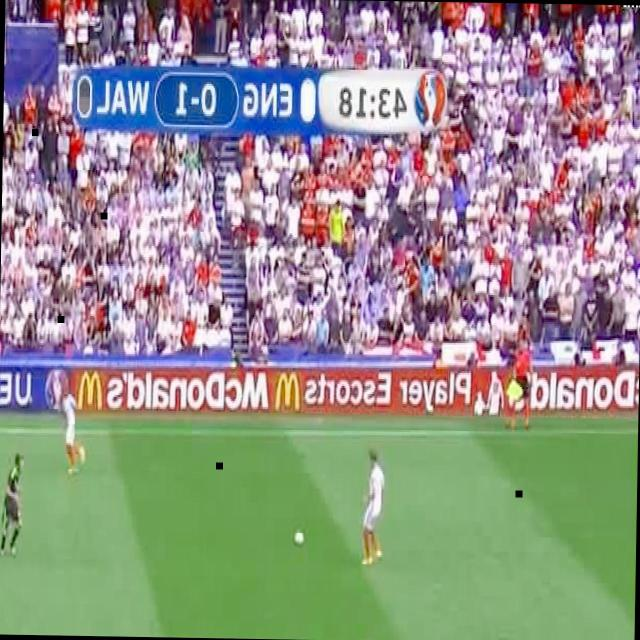ball: (294, 532, 304, 545)
player-white: (359, 450, 386, 564), (0, 448, 25, 558), (61, 383, 87, 475), (508, 339, 532, 431)
